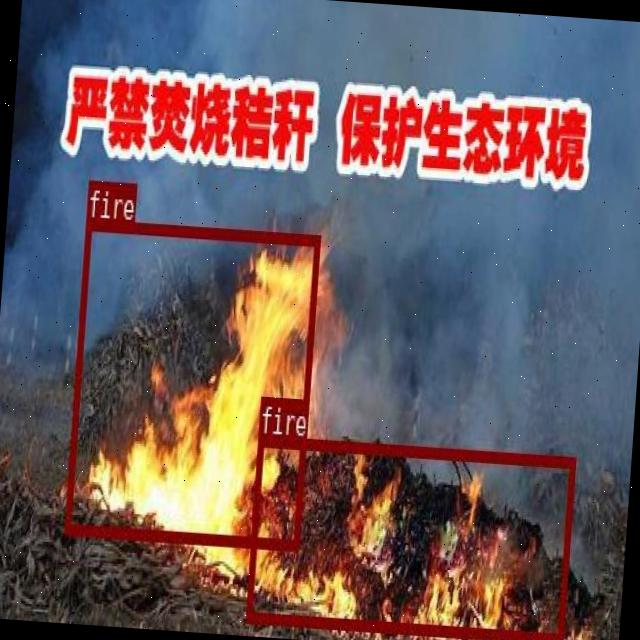fire: (63, 216, 320, 549), (244, 433, 574, 640)
